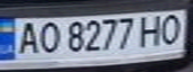2: (81, 17, 103, 53)
7: (115, 15, 139, 51), (100, 16, 121, 52)
8: (63, 18, 84, 53)
A: (12, 19, 42, 55)
H: (136, 12, 166, 47)
O: (33, 19, 63, 54), (157, 11, 187, 46)
